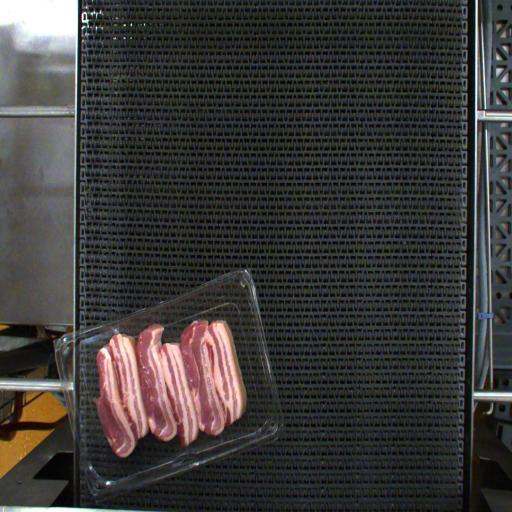packaging-error: (108, 324, 122, 338)
